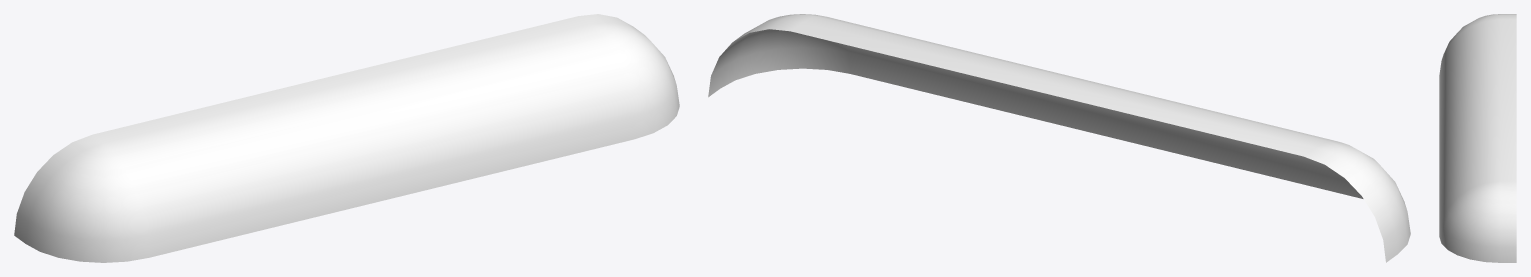
File: umbrella_2.glb
3 renders of one model, left to right at view 1: azimuth 30°, elevation 25°; view 2: azimuth 150°, elevation 25°; view 3: azimuth 270°, elevation 25°, orthographic. The views are drawn at different scales.
Parts seen in each view (by area): view 1: umbrella_2; view 2: umbrella_2; view 3: umbrella_2.
Part boxes in pixels (bbox=[...]): umbrella_2: bbox=[14, 14, 679, 262]; umbrella_2: bbox=[708, 14, 1410, 262]; umbrella_2: bbox=[1439, 14, 1516, 262].
Size of the model in its own units: 5.83 by 0.7093 by 0.8897.
Materials: 1 (1 with a texture image).
